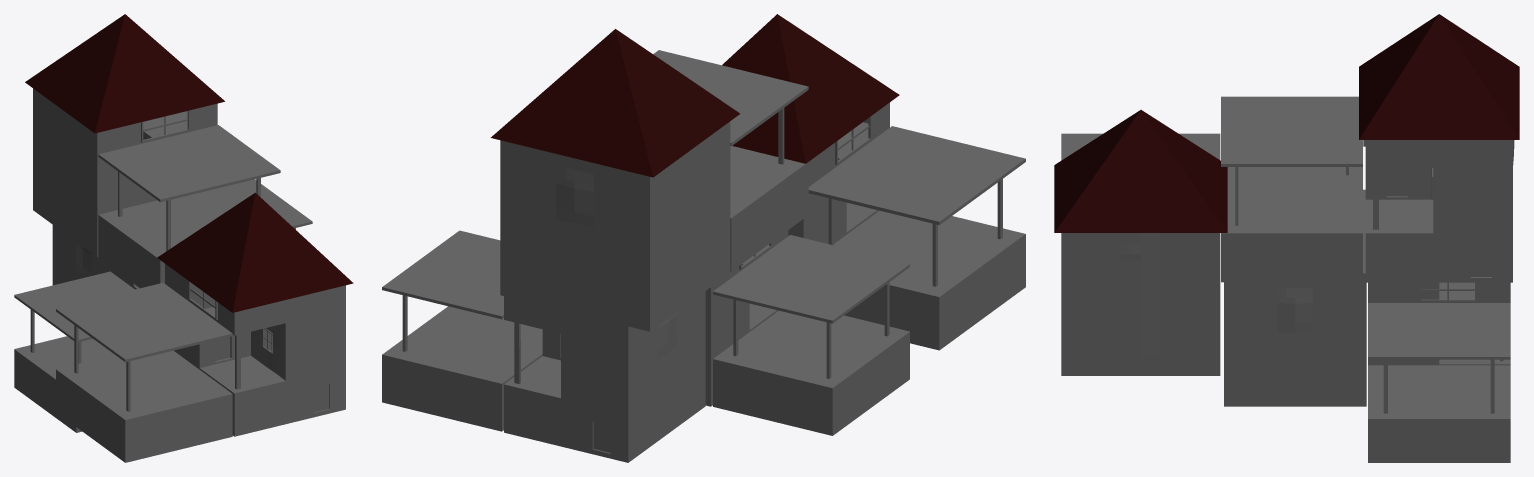
3 renders of one model, left to right at view 1: azimuth 30°, elevation 25°; view 2: azimuth 150°, elevation 25°; view 3: azimuth 270°, elevation 25°, orthographic. The views are drawn at different scales.
Parts seen in each view (by area): view 1: Cube.001, Cube, Cube.003, Cube.002; view 2: Cube, Cube.001, Cube.002, Cube.003; view 3: Cube, Cube.001, Cube.002, Cube.003.
Boxes of the visible parts, x1,y1,x2,y2 form: Cube.001: (56,192,353,462); Cube: (25,14,280,288); Cube.003: (14,268,139,432); Cube.002: (52,179,312,285); Cube: (490,29,808,331); Cube.001: (722,14,1025,350); Cube.002: (382,230,705,462); Cube.003: (705,230,909,435); Cube: (1221,14,1519,282); Cube.001: (1054,110,1227,375); Cube.002: (1368,282,1510,462); Cube.003: (1224,189,1366,406).
Bounding box in the file's own units: 4130 × 3883 × 4521.
